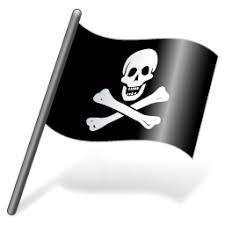Jolly Roger Flag: (43, 23, 219, 160)
